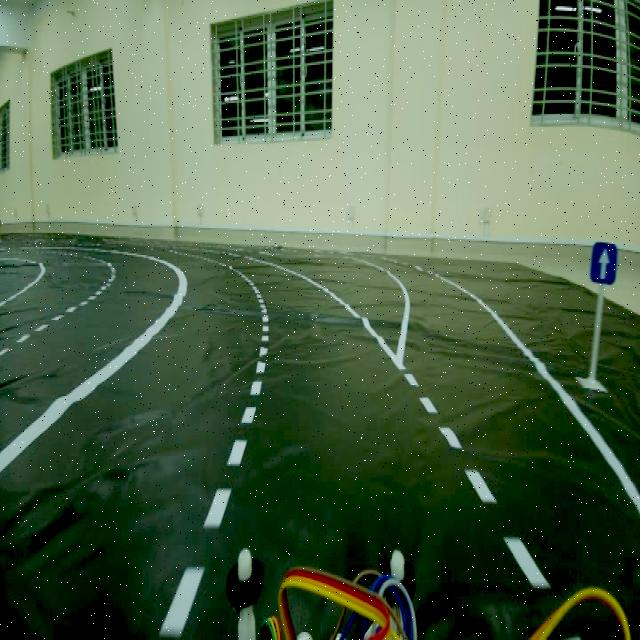onewayroad: (584, 228, 620, 300)
